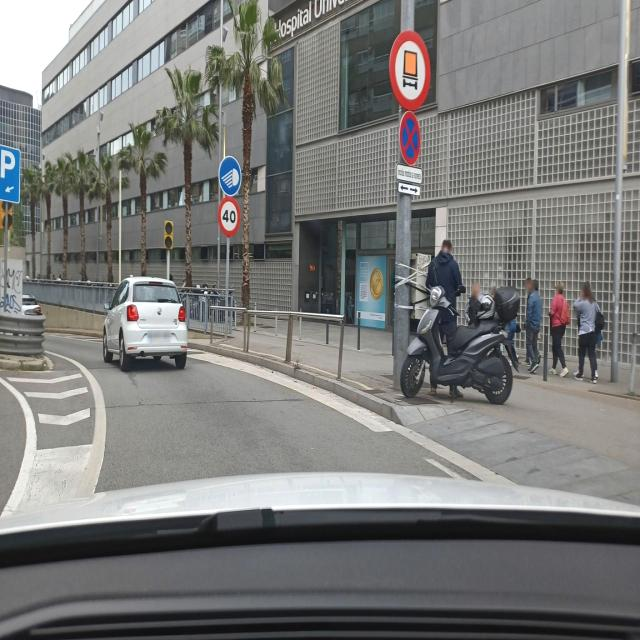bike: (400, 278, 514, 404)
car: (102, 276, 188, 370)
